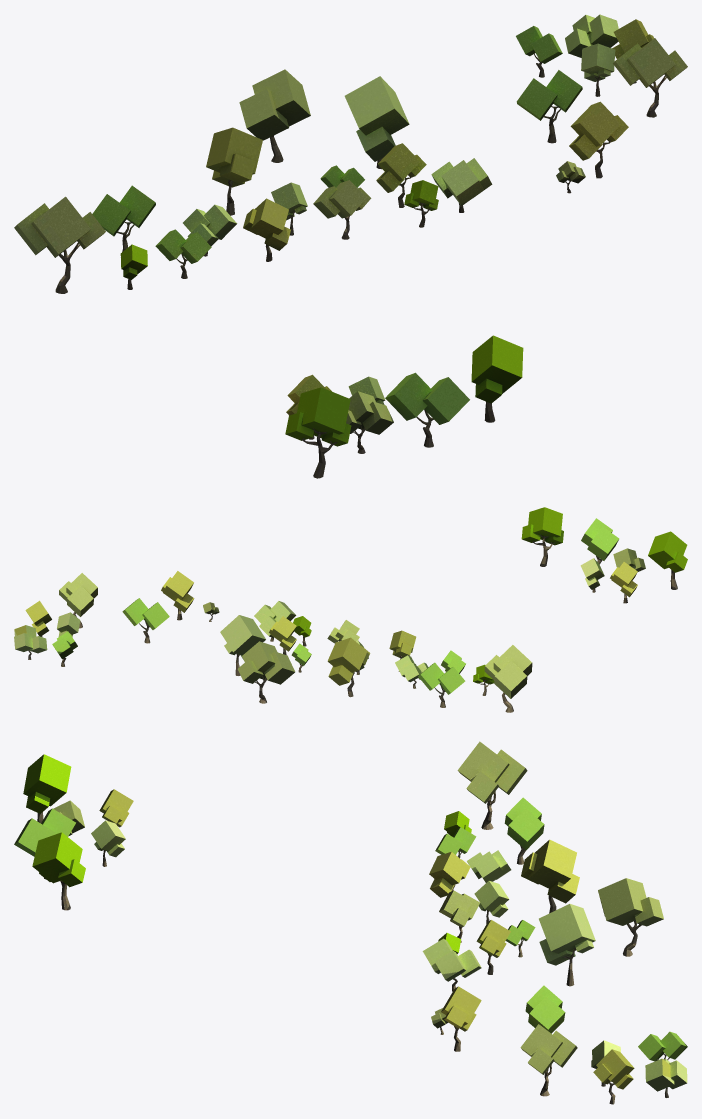
File: Alberi.glb
The picture shows the model from 3 angles, top to bottom: view 1: azimuth 30°, elevation 25°; view 2: azimuth 150°, elevation 25°; view 3: azimuth 270°, elevation 25°; orthographic projection. The views are drawn at different scales.
Visible parts, largest first — view 1: Lowpoly_Tree_06_2, Lowpoly_Tree_06_8, Lowpoly_Tree_06_3, Lowpoly_Tree_06_6, Lowpoly_Tree_06_1, Lowpoly_Tree_06; view 2: Lowpoly_Tree_06_2, Lowpoly_Tree_06_6, Lowpoly_Tree_06_8, Lowpoly_Tree_06_3, Lowpoly_Tree_06_1, Lowpoly_Tree_06; view 3: Lowpoly_Tree_06_2, Lowpoly_Tree_06_8, Lowpoly_Tree_06_6, Lowpoly_Tree_06_3, Lowpoly_Tree_06_1, Lowpoly_Tree_06.
Part boxes in pixels (x1,y1,x2,y2): Lowpoly_Tree_06_2: [14, 38, 687, 434]; Lowpoly_Tree_06_8: [183, 14, 618, 404]; Lowpoly_Tree_06_3: [92, 26, 582, 424]; Lowpoly_Tree_06_6: [206, 19, 653, 415]; Lowpoly_Tree_06_1: [120, 180, 523, 446]; Lowpoly_Tree_06: [55, 53, 666, 478]; Lowpoly_Tree_06_2: [59, 548, 645, 698]; Lowpoly_Tree_06_6: [14, 562, 637, 685]; Lowpoly_Tree_06_8: [14, 558, 604, 682]; Lowpoly_Tree_06_3: [52, 518, 619, 694]; Lowpoly_Tree_06_1: [293, 507, 687, 684]; Lowpoly_Tree_06: [28, 534, 677, 712]; Lowpoly_Tree_06_2: [53, 741, 663, 1074]; Lowpoly_Tree_06_8: [91, 820, 687, 1091]; Lowpoly_Tree_06_6: [99, 789, 670, 1089]; Lowpoly_Tree_06_3: [14, 797, 687, 1061]; Lowpoly_Tree_06_1: [23, 754, 471, 953]; Lowpoly_Tree_06: [37, 791, 669, 1104].
Bounding box in the file's own units: 109 × 14.66 × 104.
Materials: 6 (6 with a texture image).
